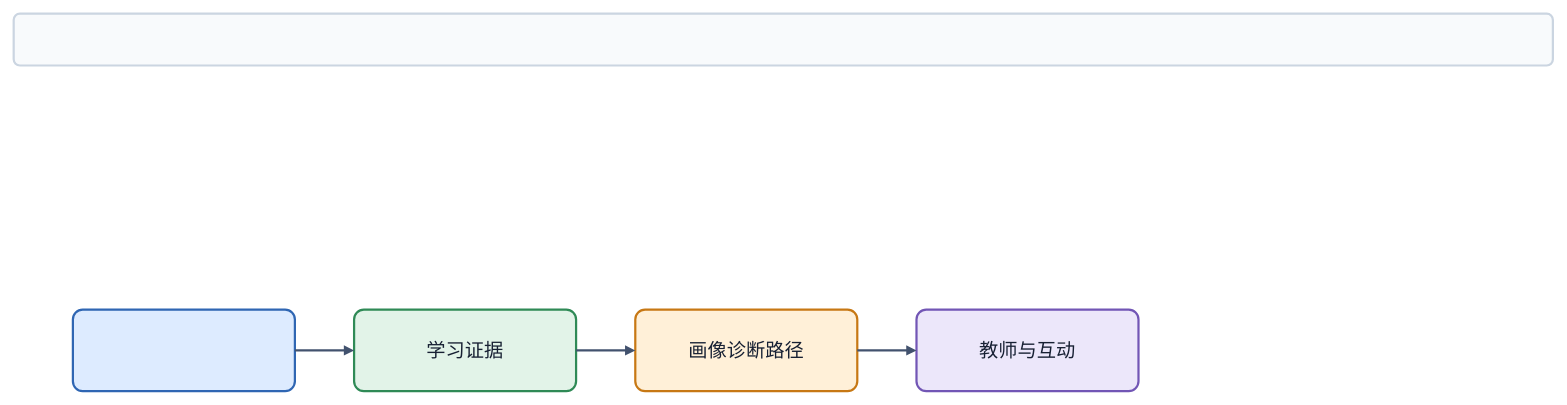
Some shapes in this 1567 by 405 pixel diagram are drawn without their labels. Each missing label, with the centre of its shape:
图 4 MySQL 数据库分域与表结构现状: pixel 783 39
课程与资源: pixel 183 350
